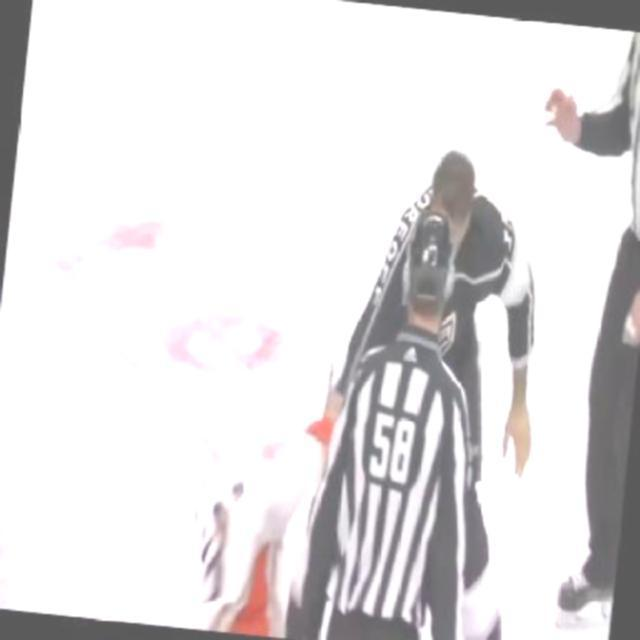fight: (177, 116, 568, 638)
